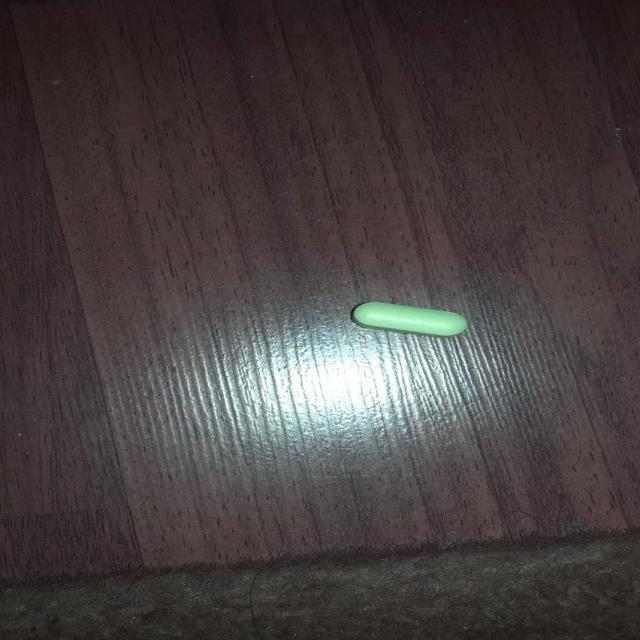pill: (353, 300, 472, 342)
